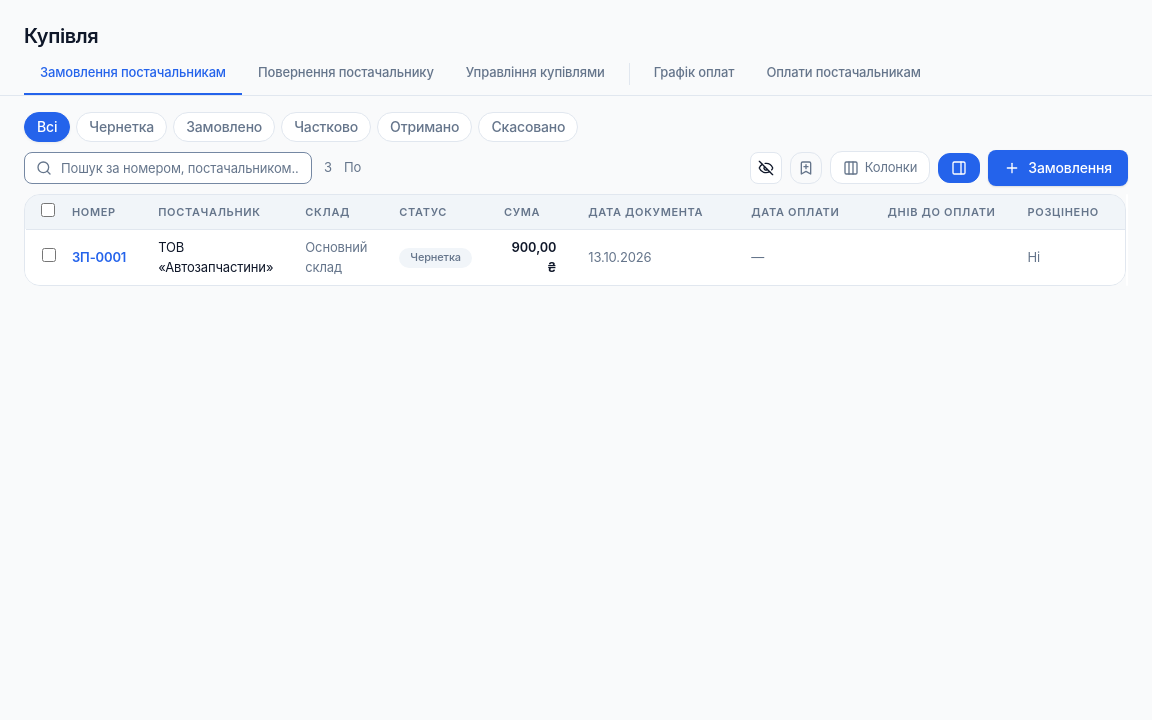
Закупівлі — бокова панель повернень і зведення › замовлення: вкладка «Позиції» — рядок без amount, 0,3 × 100,05 = 30,02
Check: the link "ЗП-0001" is shown, box x1=72 y1=249 x2=126 y2=265
Click the text "ЗП-0001": [588, 257] box x1=25 y1=230 x2=1151 y2=285
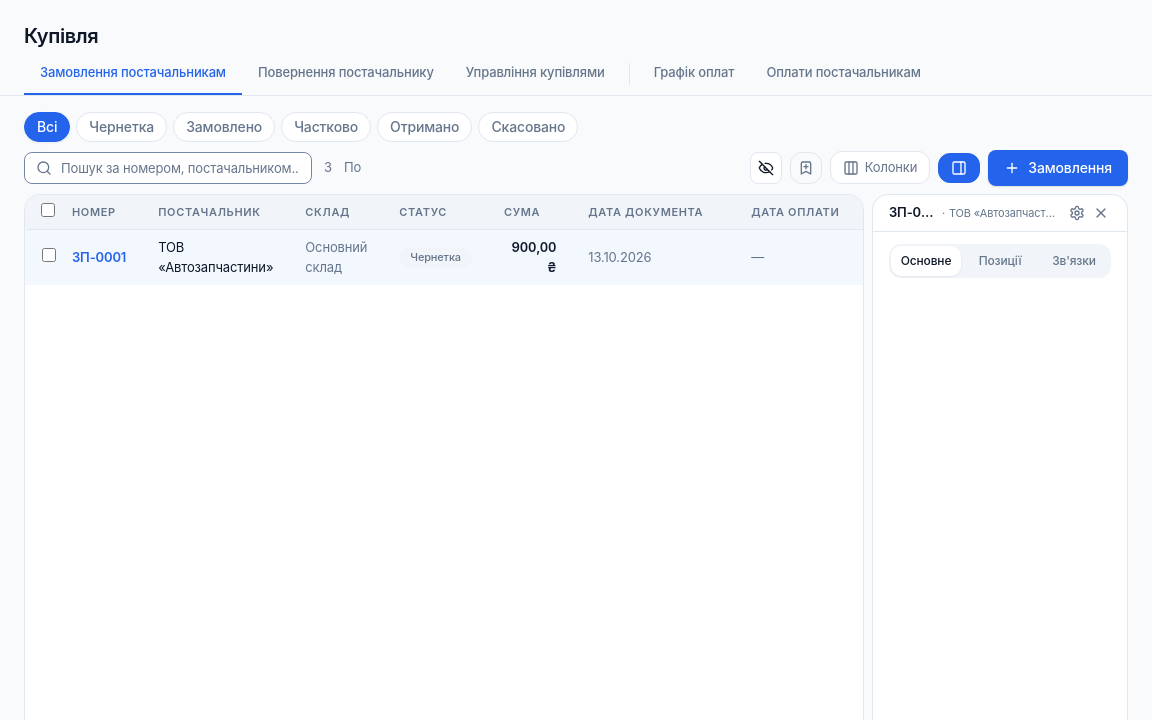
Click the button "Позиції": [1000, 260] box x1=965 y1=246 x2=1035 y2=276
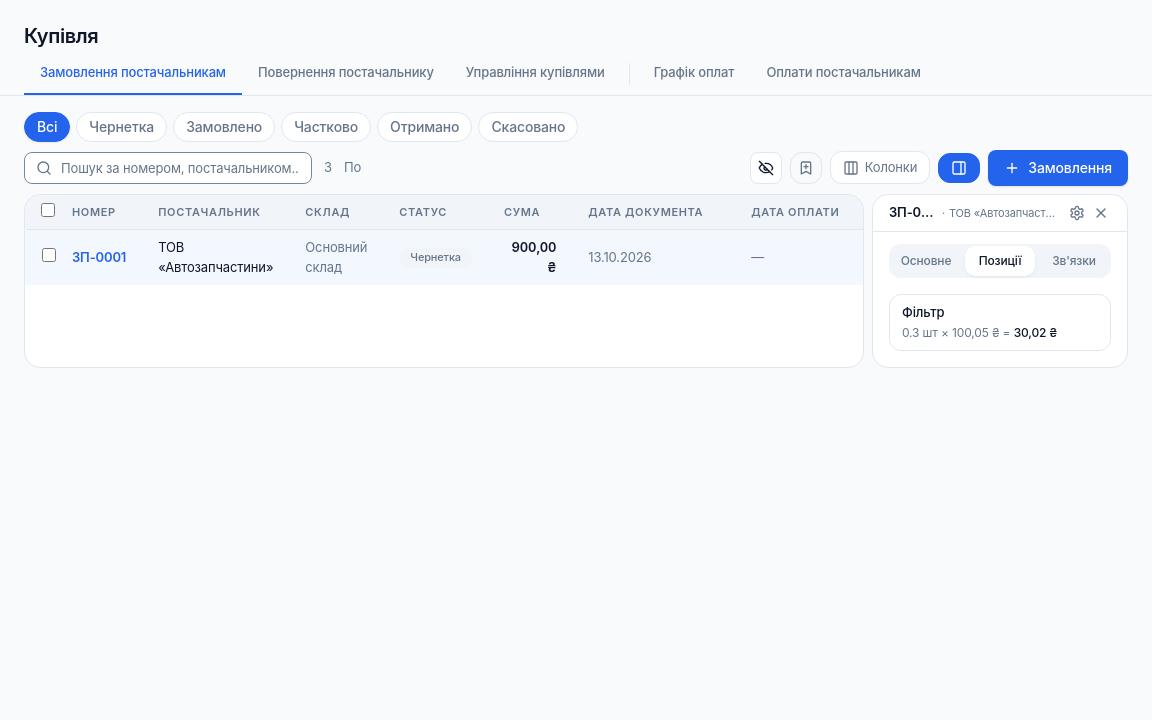
Check: the text "Фільтр" shows "= 30,02", box x1=889 y1=294 x2=1111 y2=351
